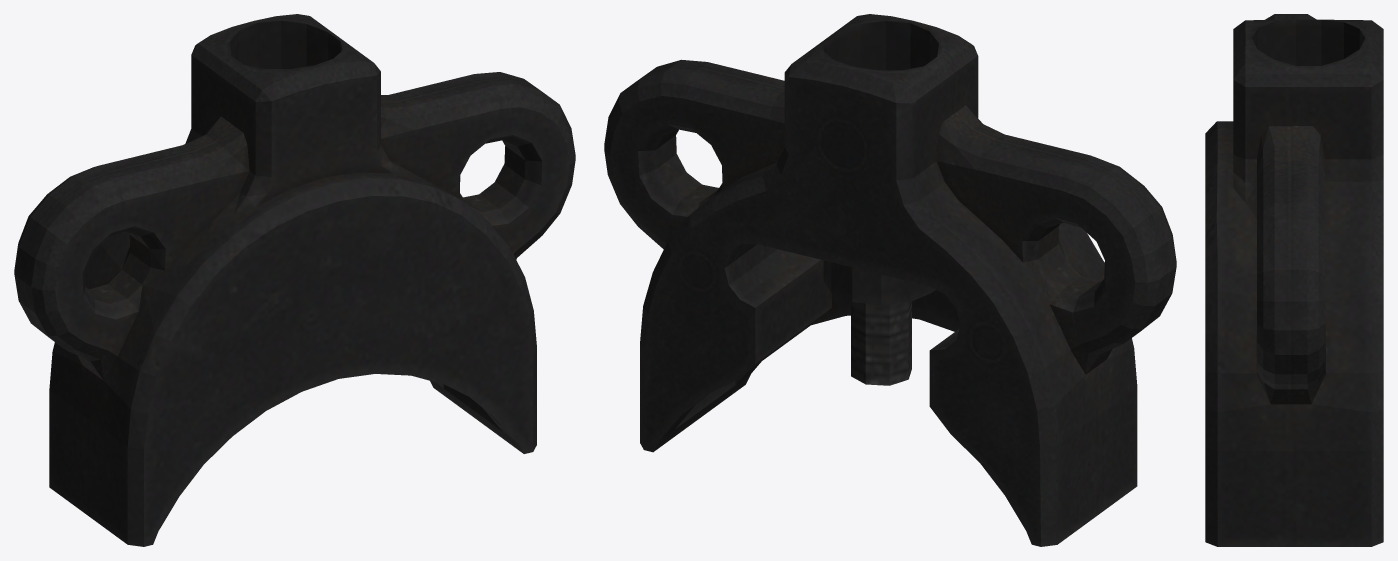
The picture shows the model from 3 angles, left to right: view 1: azimuth 30°, elevation 25°; view 2: azimuth 150°, elevation 25°; view 3: azimuth 270°, elevation 25°; orthographic projection. The views are drawn at different scales.
Visible parts, largest first — view 1: TW_622f16a1a5958f63c67f1737_PZ_Import; view 2: TW_622f16a1a5958f63c67f1737_PZ_Import; view 3: TW_622f16a1a5958f63c67f1737_PZ_Import.
Boxes of the visible parts, bbox=[...] form: TW_622f16a1a5958f63c67f1737_PZ_Import: bbox=[14, 14, 575, 546]; TW_622f16a1a5958f63c67f1737_PZ_Import: bbox=[604, 14, 1176, 546]; TW_622f16a1a5958f63c67f1737_PZ_Import: bbox=[1205, 14, 1383, 546].
Size of the model in its own units: 0.03 by 0.00865 by 0.0219.
Materials: 1 (1 with a texture image).
